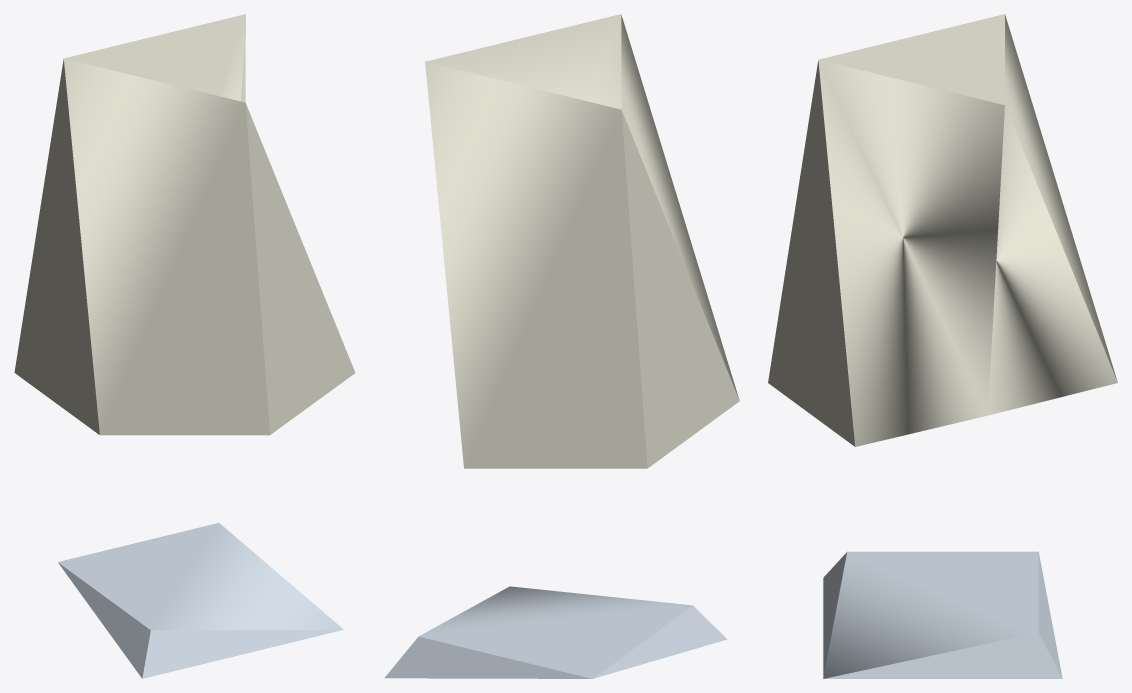
File: lampRoundTable.glb
3 renders of one model, left to right at view 1: azimuth 30°, elevation 25°; view 2: azimuth 150°, elevation 25°; view 3: azimuth 270°, elevation 25°, orthographic. The views are drawn at different scales.
Parts seen in each view (by area): view 1: lampRoundTable(Clone); view 2: lampRoundTable(Clone); view 3: lampRoundTable(Clone).
Part boxes in pixels (x1,y1,x2,y2): lampRoundTable(Clone): [14, 14, 355, 678]; lampRoundTable(Clone): [384, 14, 739, 678]; lampRoundTable(Clone): [768, 14, 1117, 678].
Bounding box in the file's own units: 0.1519 × 0.3142 × 0.1753.
